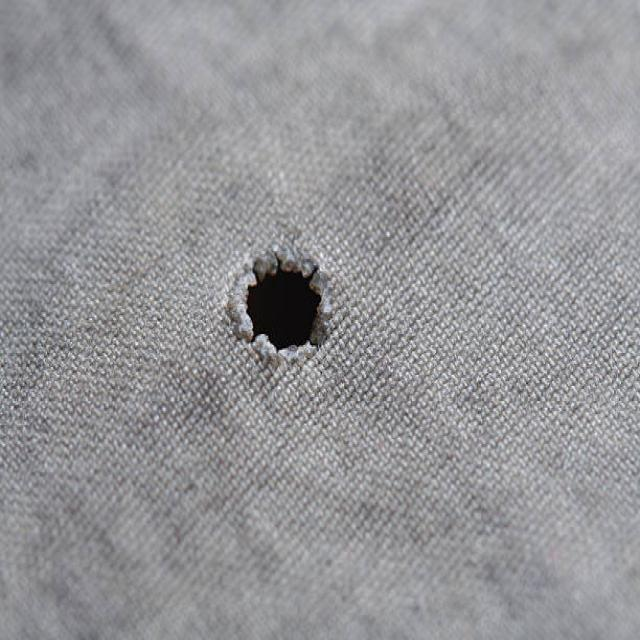Hole: (227, 244, 333, 366)
